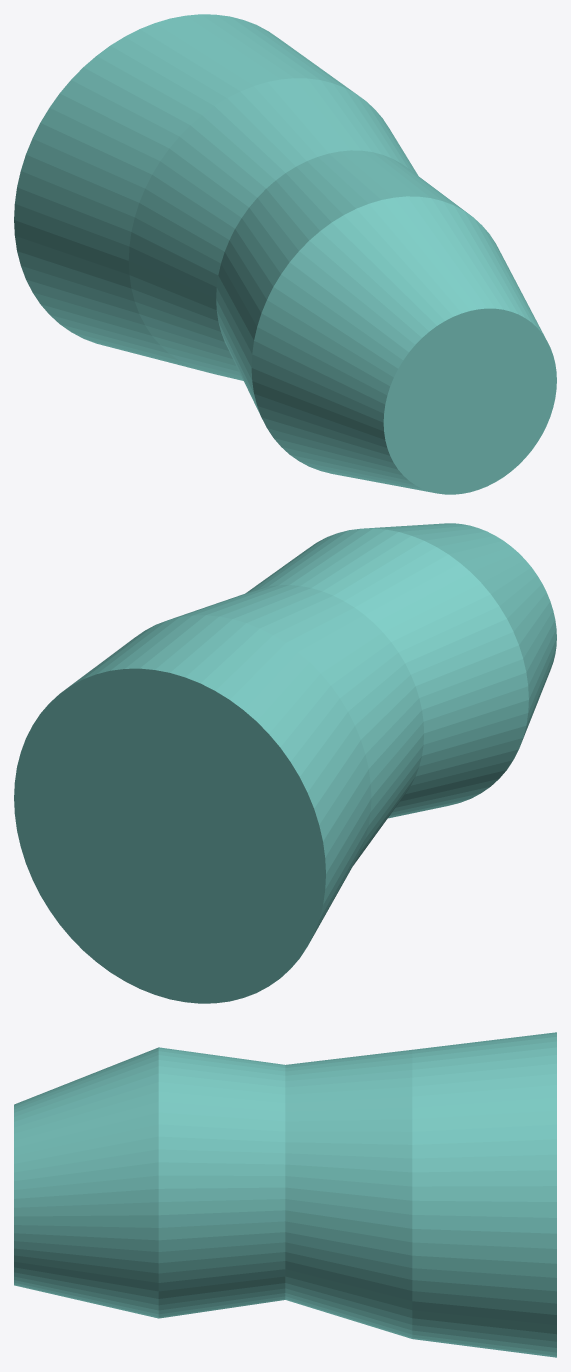
Rendered from loft_demo.glb.
The picture shows the model from 3 angles, top to bottom: view 1: azimuth 30°, elevation 25°; view 2: azimuth 150°, elevation 25°; view 3: azimuth 270°, elevation 25°; orthographic projection. The views are drawn at different scales.
Visible parts, largest first — view 1: organic_loft; view 2: organic_loft; view 3: organic_loft.
Boxes of the visible parts, x1=… form: organic_loft: x1=14, y1=14, x2=556, y2=494; organic_loft: x1=14, y1=523, x2=556, y2=1003; organic_loft: x1=14, y1=1032, x2=556, y2=1357.
Bounding box in the file's own units: 18 × 18 × 30.
